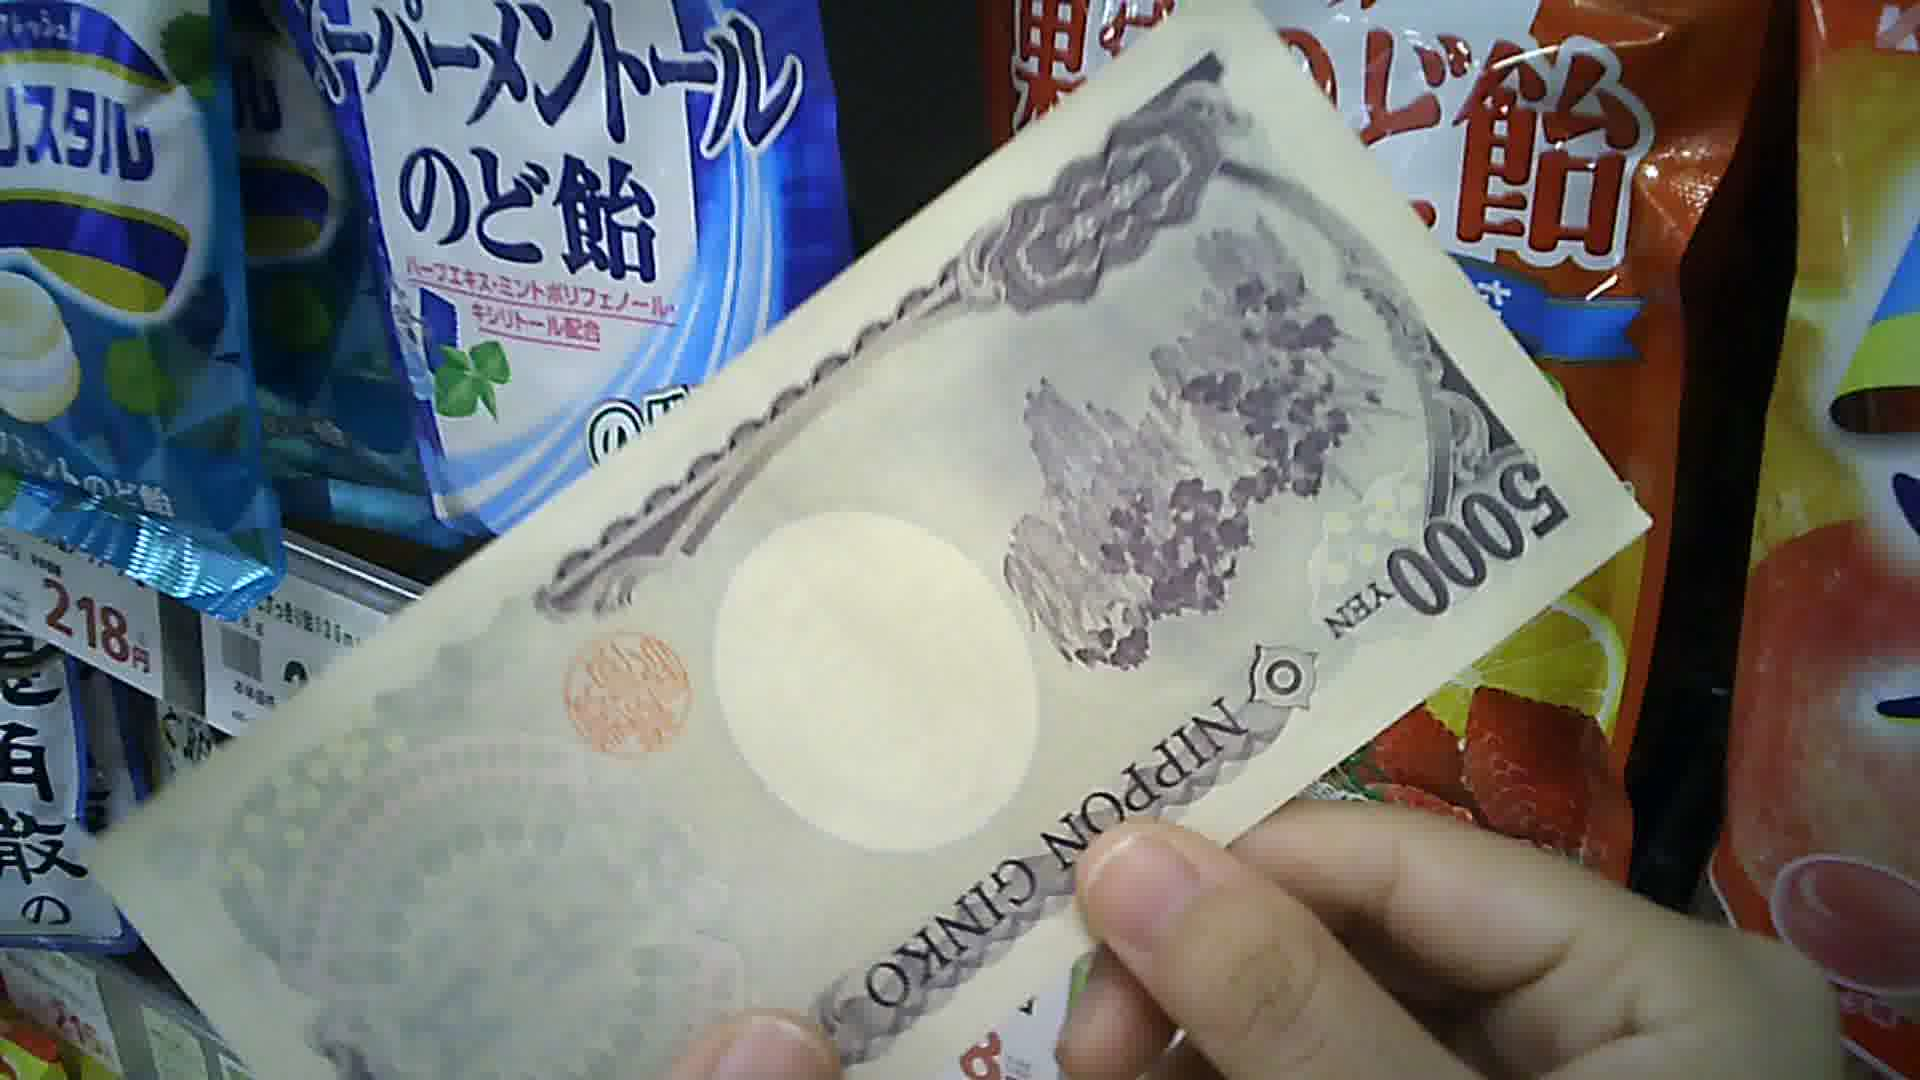5,000 Yen: (105, 34, 1573, 1079)
